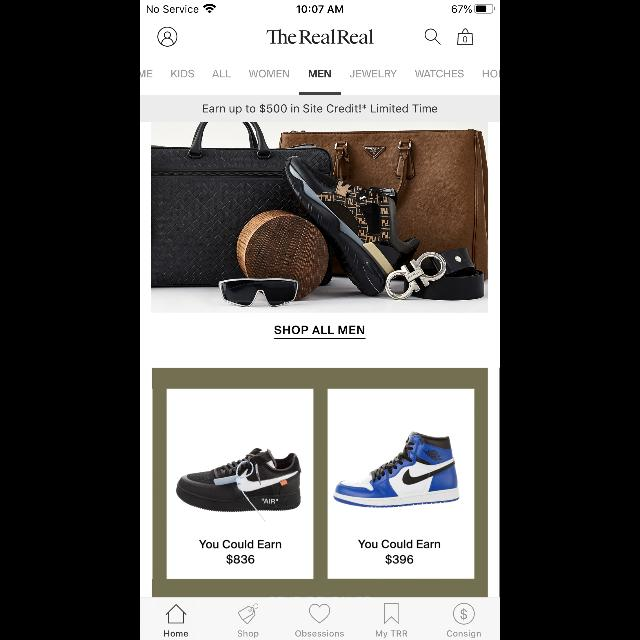icon: (158, 27, 178, 47), (454, 604, 474, 624), (238, 604, 258, 624), (166, 604, 187, 622), (310, 604, 330, 622), (384, 602, 398, 624), (457, 29, 473, 45), (425, 29, 441, 45)
image: (151, 123, 487, 313), (333, 431, 459, 507), (176, 448, 302, 522)
text: (203, 104, 437, 115), (266, 30, 374, 44), (274, 326, 364, 334), (358, 540, 440, 548), (199, 540, 281, 548), (415, 70, 463, 78), (349, 70, 396, 78), (385, 554, 413, 566), (249, 70, 289, 78), (296, 630, 344, 636), (226, 554, 254, 564), (447, 630, 481, 638), (376, 630, 406, 638), (172, 70, 194, 78), (238, 630, 258, 638), (164, 630, 188, 636), (309, 70, 331, 76), (213, 70, 231, 76)
uppertaskbar: (140, 0, 500, 14)
